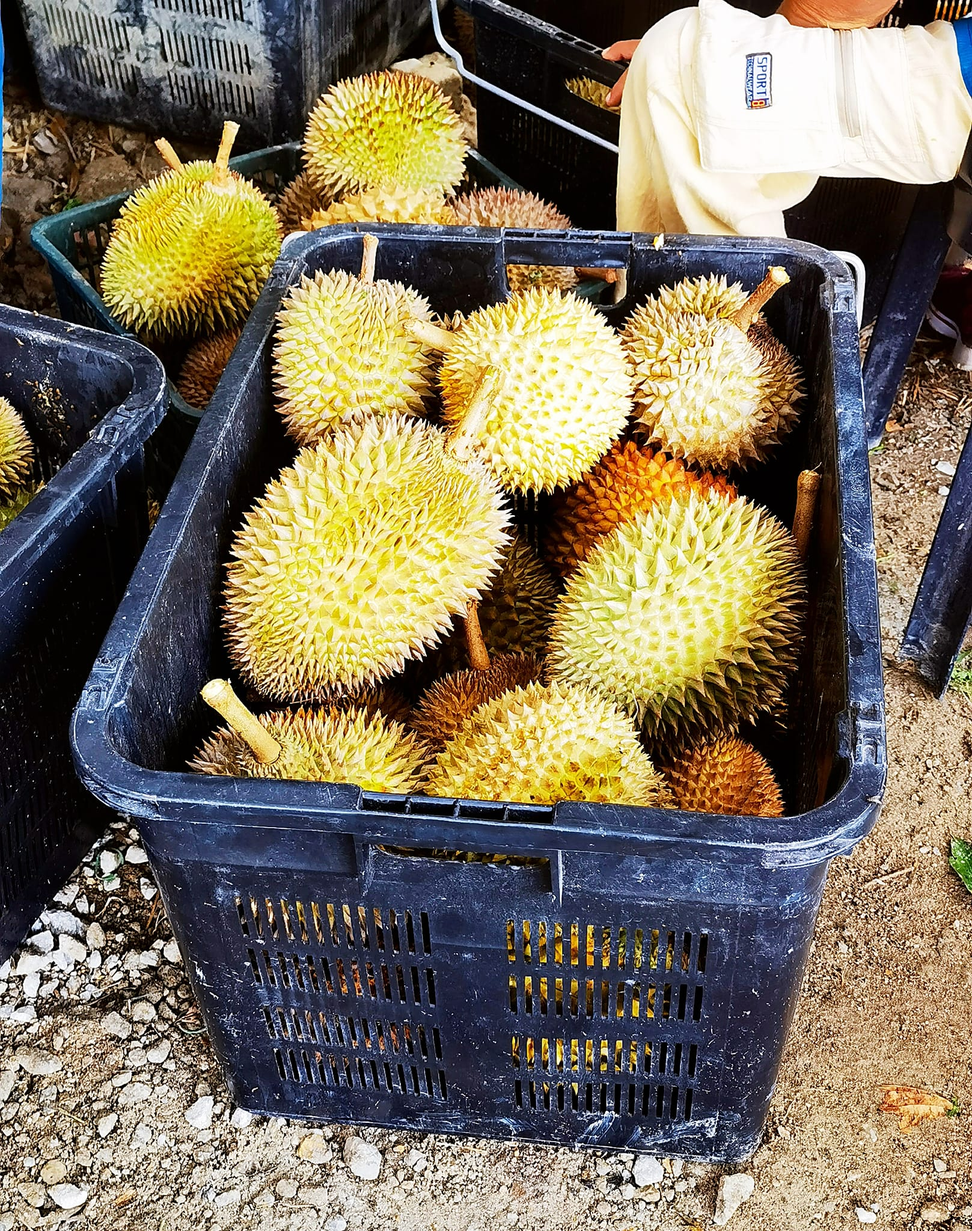bulk_waste: (71, 225, 886, 1164)
normal_waste: (102, 121, 281, 340), (304, 71, 466, 194)
